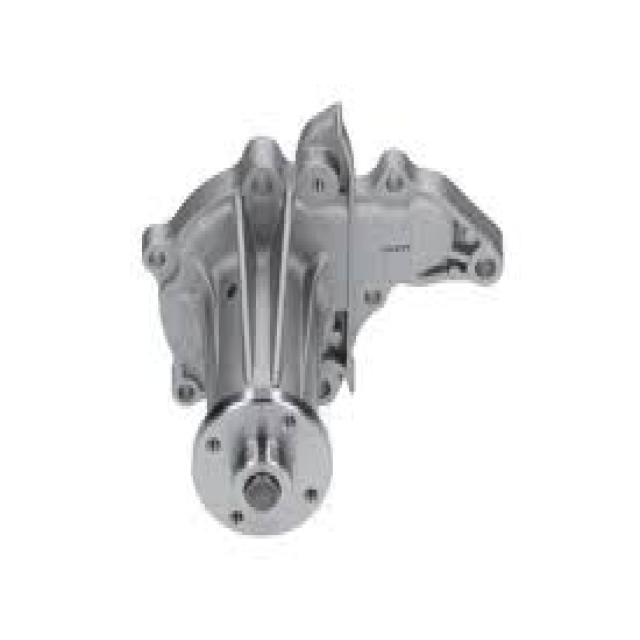video2: (142, 92, 506, 543)
